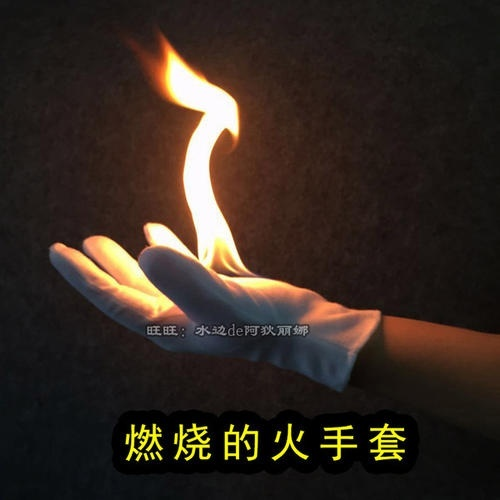fire: (152, 30, 250, 297)
